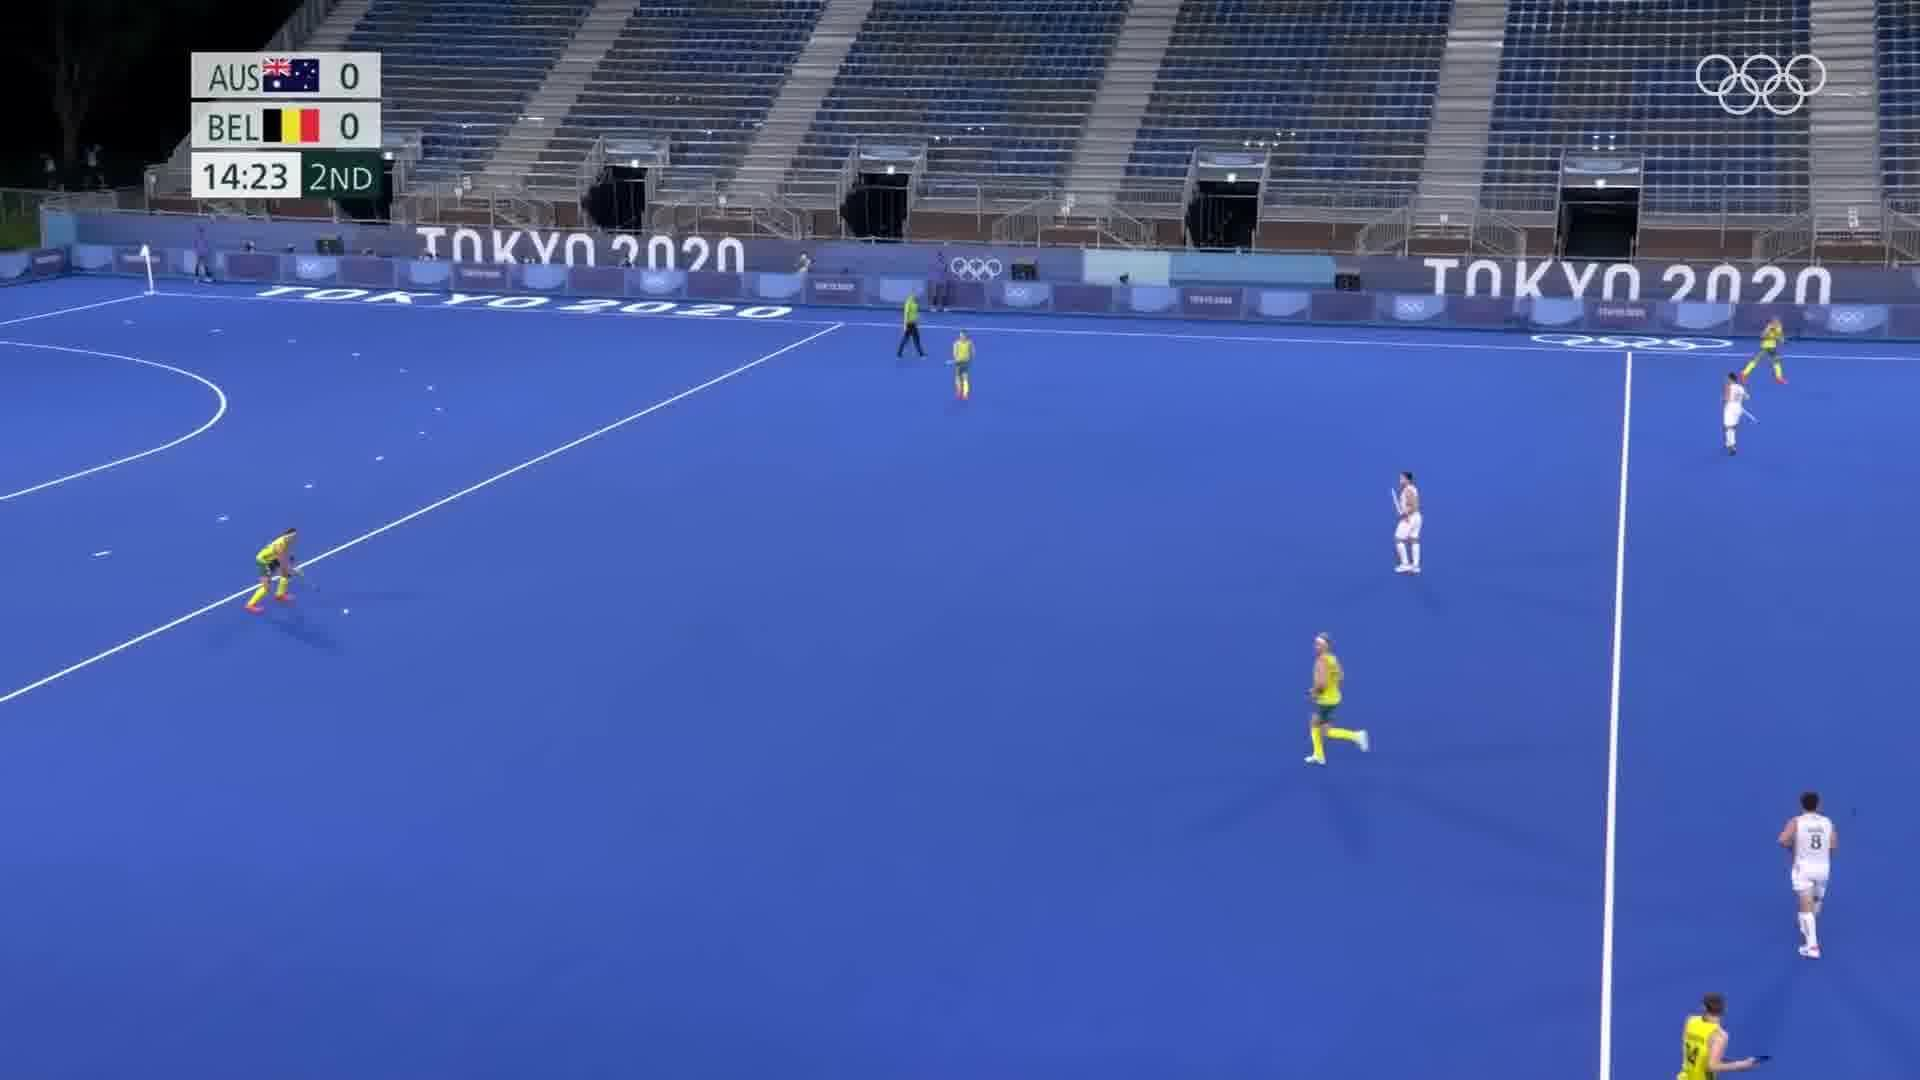ball: (338, 606, 356, 621)
